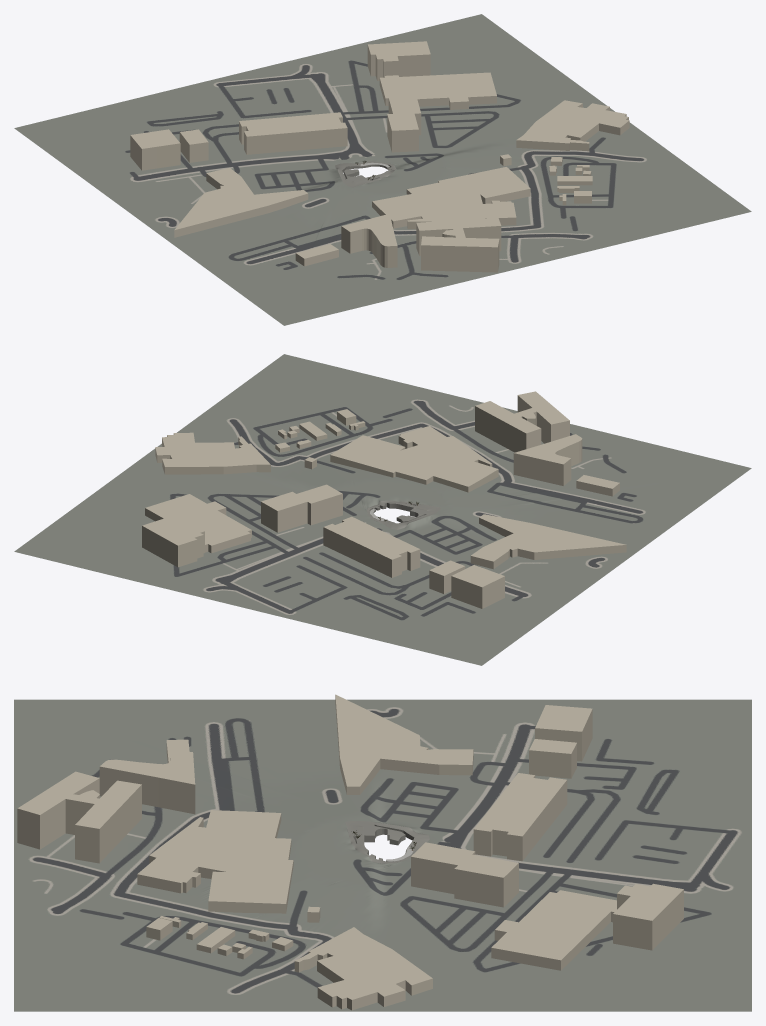
Rendered from nearfield.mo.glb.
3 renders of one model, top to bottom at view 1: azimuth 30°, elevation 25°; view 2: azimuth 150°, elevation 25°; view 3: azimuth 270°, elevation 25°, orthographic. The views are drawn at different scales.
Visible parts, largest first — view 1: Farfield_ground, Nearfield_part_010, Nearfield_part_014, Nearfield_part_005, Nearfield_part_008, Nearfield_part_002, Nearfield_part_003, Nearfield_part_004, Nearfield_part_013, Nearfield_part_001, Nearfield_part_006, Nearfield_part_000 (+2 smaller); view 2: Farfield_ground, Nearfield_part_010, Nearfield_part_014, Nearfield_part_002, Nearfield_part_008, Nearfield_part_005, Nearfield_part_003, Nearfield_part_001, Nearfield_part_013, Nearfield_part_004, Nearfield_part_006, Nearfield_part_000 (+3 smaller); view 3: Farfield_ground, Nearfield_part_010, Nearfield_part_014, Nearfield_part_008, Nearfield_part_003, Nearfield_part_002, Nearfield_part_005, Nearfield_part_001, Nearfield_part_004, Nearfield_part_013, Nearfield_part_006, Nearfield_part_000 (+3 smaller).
Part boxes in pixels (x1,y1,x2,y2): Farfield_ground: (14, 14, 751, 325); Nearfield_part_010: (372, 167, 530, 229); Nearfield_part_014: (416, 217, 501, 272); Nearfield_part_005: (239, 112, 347, 154); Nearfield_part_008: (516, 100, 629, 151); Nearfield_part_002: (174, 176, 308, 237); Nearfield_part_003: (379, 72, 496, 109); Nearfield_part_004: (367, 41, 430, 80); Nearfield_part_013: (341, 213, 397, 267); Nearfield_part_001: (387, 97, 421, 152); Nearfield_part_006: (130, 129, 180, 170); Nearfield_part_000: (179, 129, 208, 162); Farfield_ground: (14, 354, 751, 665); Nearfield_part_010: (330, 426, 498, 492); Nearfield_part_014: (475, 391, 569, 452); Nearfield_part_002: (479, 514, 626, 559); Nearfield_part_008: (155, 432, 270, 474); Nearfield_part_005: (323, 516, 420, 577); Nearfield_part_003: (145, 494, 251, 553); Nearfield_part_001: (261, 484, 342, 532); Nearfield_part_013: (513, 434, 582, 485); Nearfield_part_004: (142, 517, 204, 567); Nearfield_part_006: (451, 565, 504, 608); Nearfield_part_000: (429, 560, 465, 593); Farfield_ground: (14, 699, 751, 1011); Nearfield_part_010: (137, 810, 293, 913); Nearfield_part_014: (17, 771, 141, 863); Nearfield_part_008: (294, 927, 432, 1010); Nearfield_part_003: (491, 890, 616, 970); Nearfield_part_002: (335, 694, 446, 794); Nearfield_part_005: (473, 773, 567, 861); Nearfield_part_001: (411, 842, 518, 907); Nearfield_part_004: (613, 883, 683, 950); Nearfield_part_013: (99, 752, 195, 814); Nearfield_part_006: (535, 705, 592, 761); Nearfield_part_000: (529, 739, 576, 778).
Bounding box in the file's own units: 500 × 27.78 × 500.
9 materials, 4 textured.
